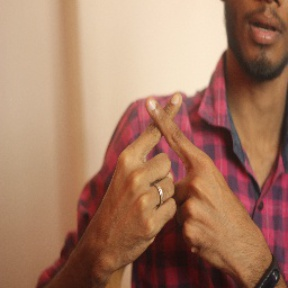X: (109, 84, 222, 187)
